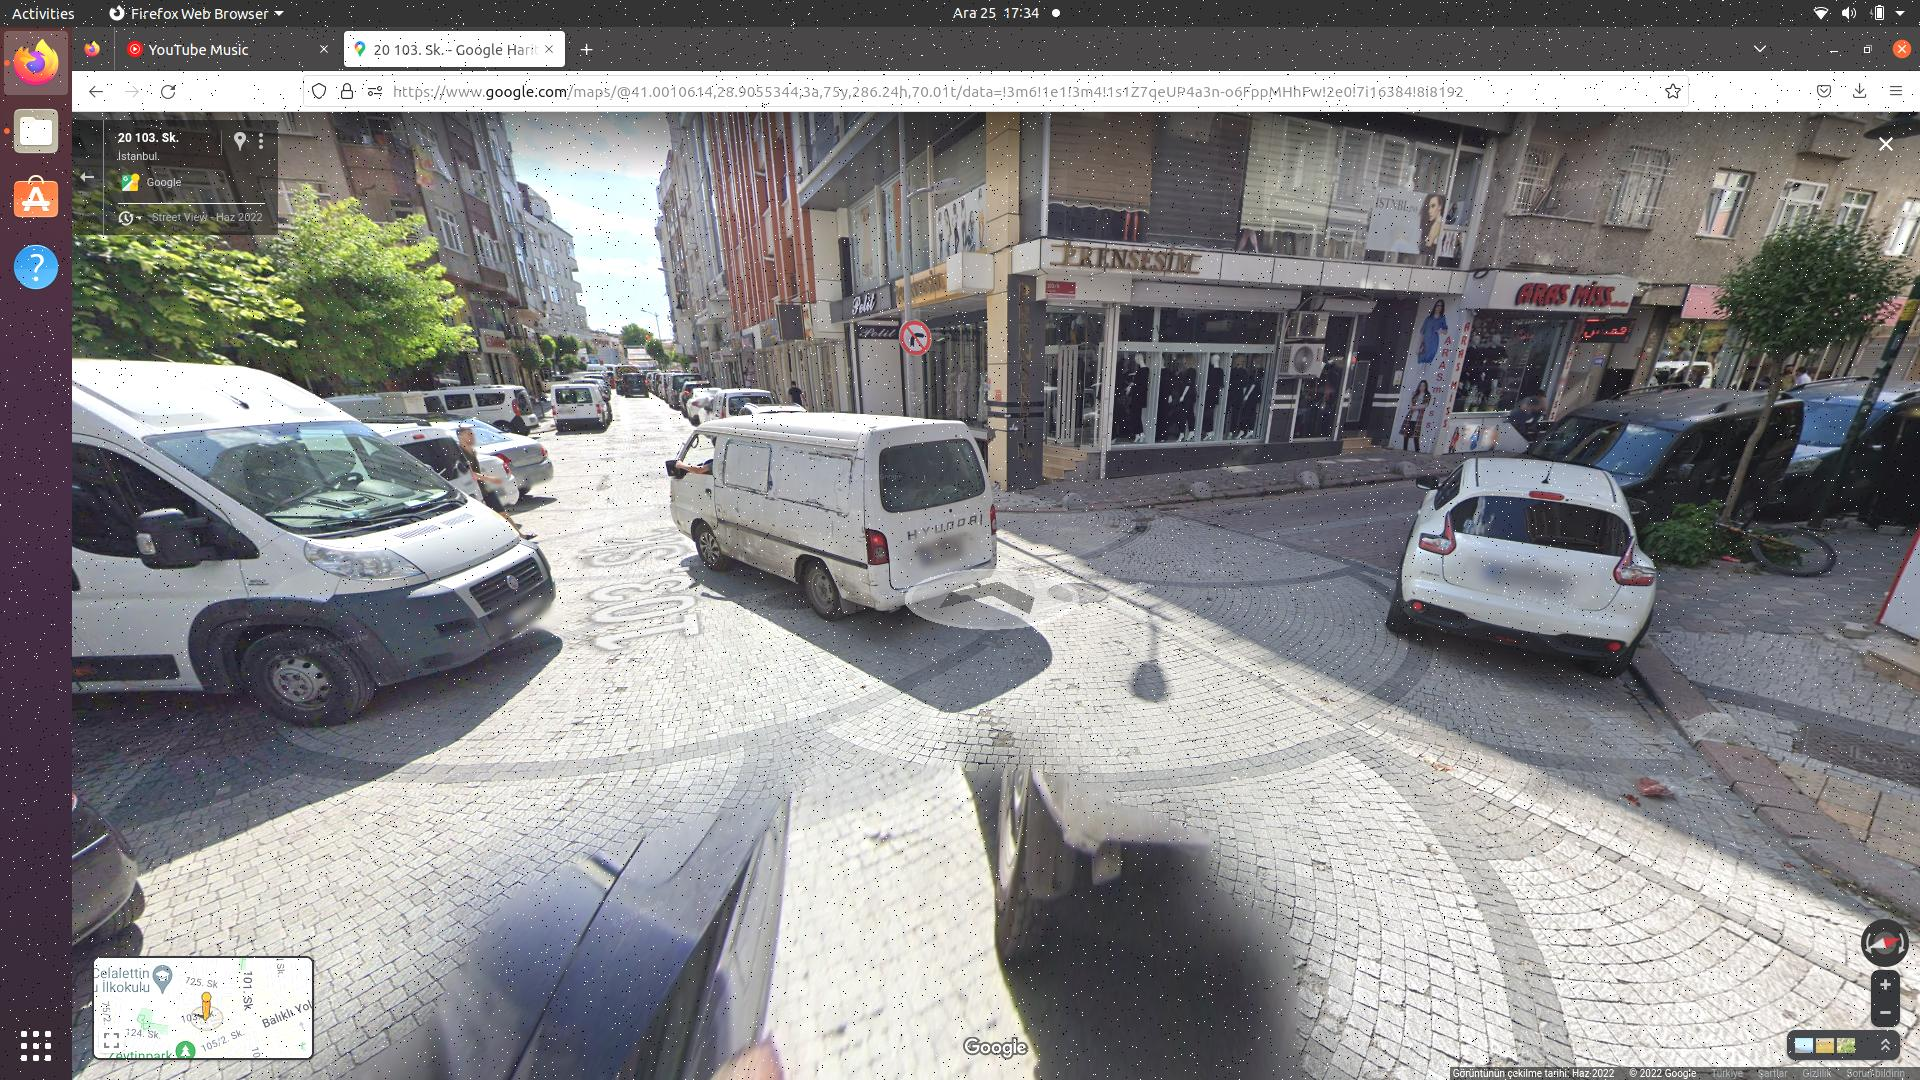rightturnsareforbidden: (899, 319, 932, 355)
